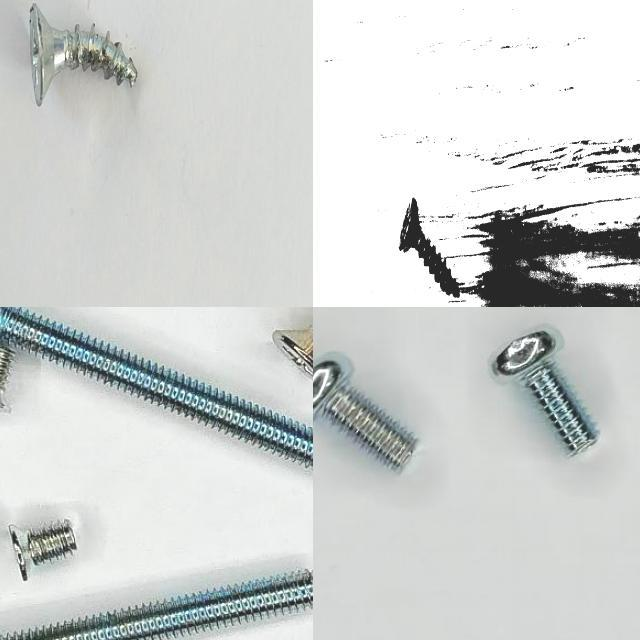Screw: (0, 307, 313, 468), (0, 571, 313, 640), (491, 330, 598, 455), (313, 353, 416, 471), (30, 2, 138, 106), (399, 197, 460, 297), (8, 520, 76, 581)
